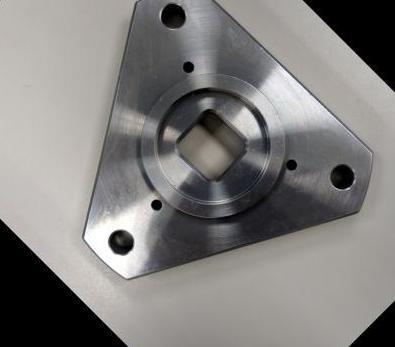hole: (96, 218, 143, 266), (318, 152, 364, 198), (147, 0, 195, 40), (175, 54, 202, 80), (281, 153, 302, 175), (146, 194, 167, 215)
